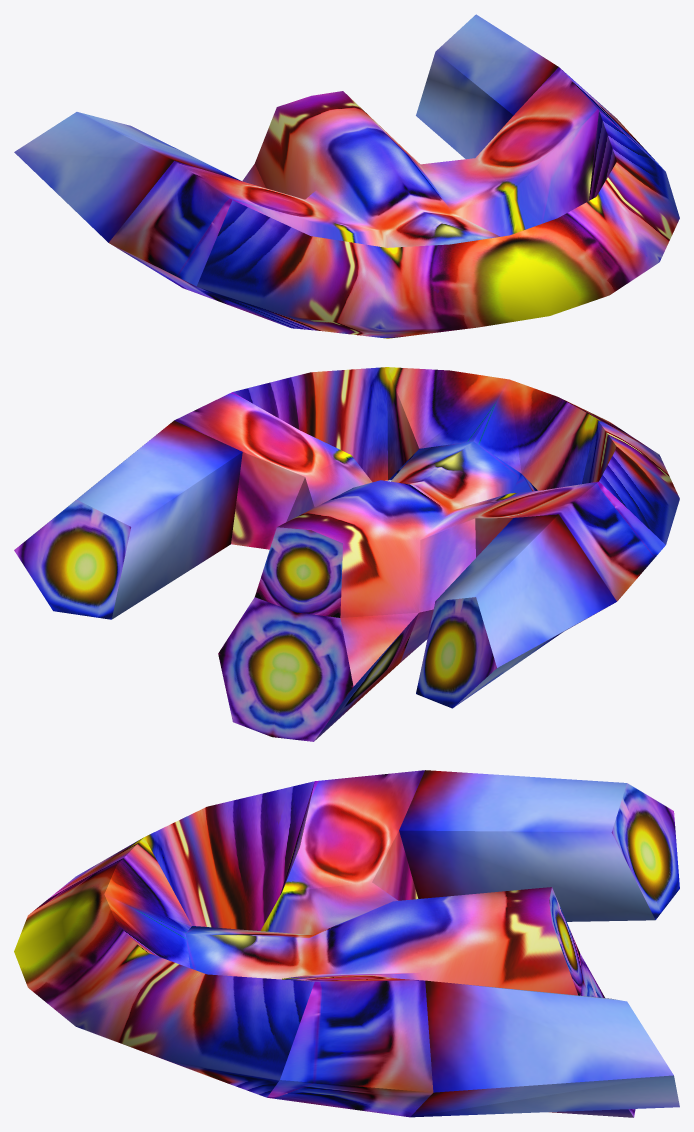
Rendered from ship-37.fbx.
The picture shows the model from 3 angles, top to bottom: view 1: azimuth 30°, elevation 25°; view 2: azimuth 150°, elevation 25°; view 3: azimuth 270°, elevation 25°; orthographic projection. The views are drawn at different scales.
Visible parts, largest first — view 1: ship-37; view 2: ship-37; view 3: ship-37.
Boxes of the visible parts, x1,y1,x2,y2 form: ship-37: (14, 14, 679, 338); ship-37: (14, 367, 679, 741); ship-37: (14, 770, 679, 1117).
Bounding box in the file's own units: 53.91 × 20.32 × 54.53.
